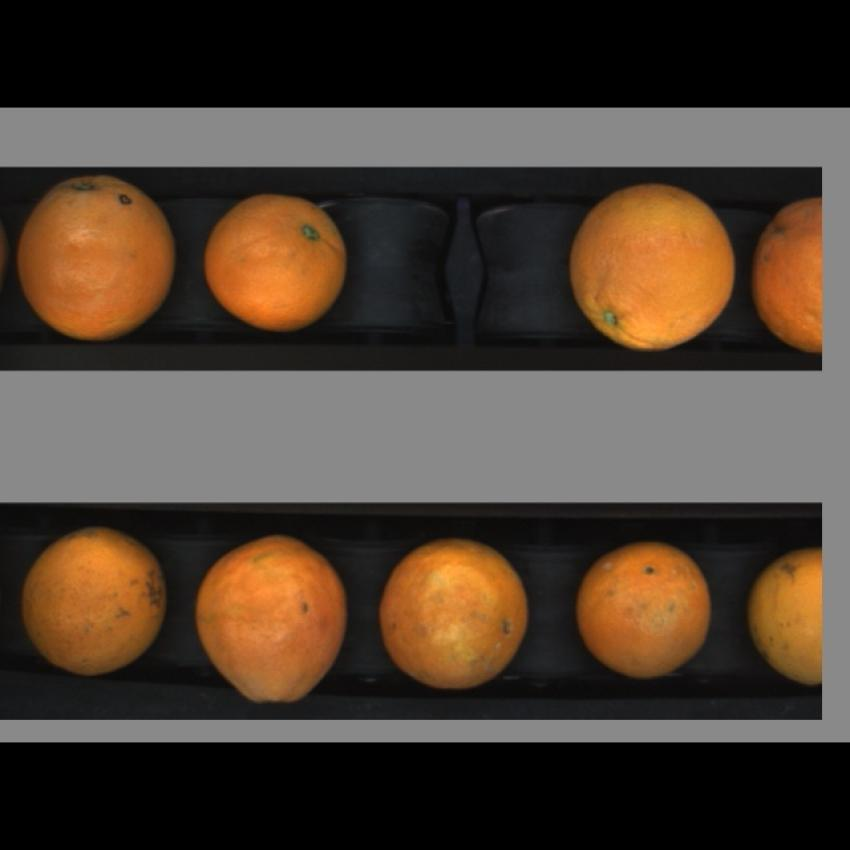Buen estado: (564, 178, 739, 352)
Mal estado: (14, 175, 182, 344), (192, 534, 353, 707), (12, 519, 173, 685), (373, 530, 537, 687), (198, 188, 356, 332), (574, 531, 718, 685), (749, 188, 822, 348), (744, 543, 824, 680)
